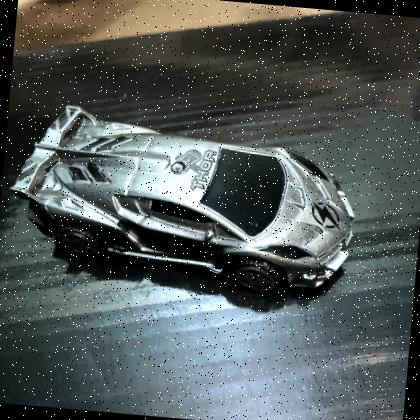Car: (10, 106, 355, 294)
